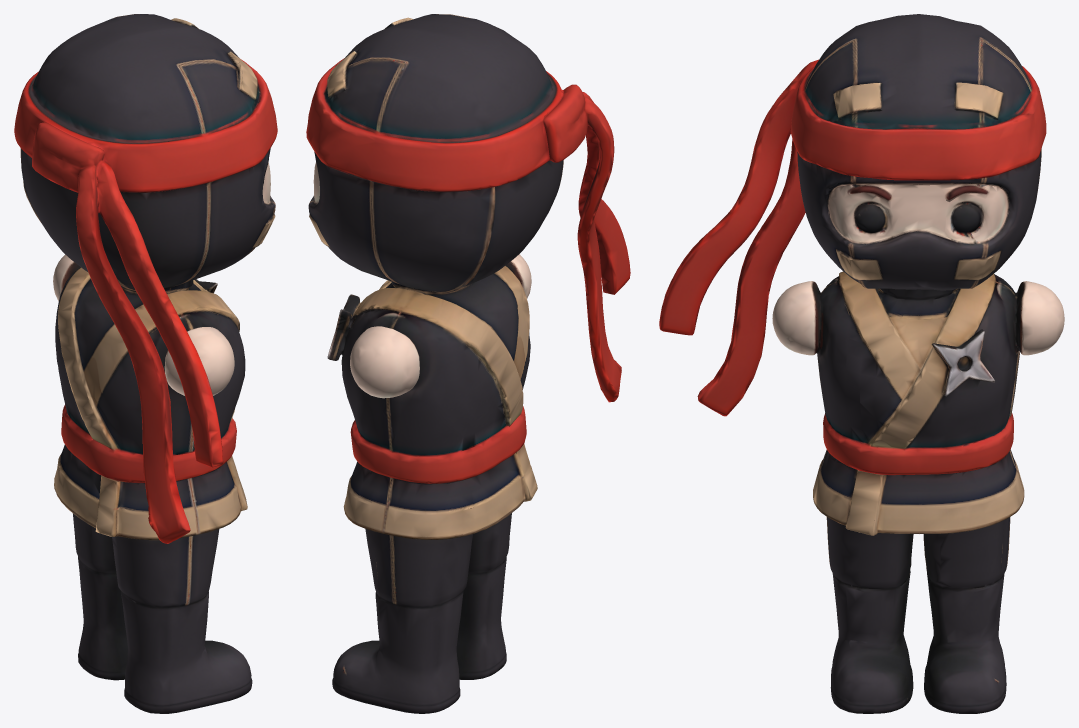
3 renders of one model, left to right at view 1: azimuth 30°, elevation 25°; view 2: azimuth 150°, elevation 25°; view 3: azimuth 270°, elevation 25°, orthographic.
Visible parts, largest first — view 1: repaired; view 2: repaired; view 3: repaired.
Boxes of the visible parts, x1,y1,x2,y2 form: repaired: (14, 14, 277, 713); repaired: (306, 14, 630, 713); repaired: (659, 14, 1064, 713).
Size of the model in its own units: 0.3679 by 0.9995 by 0.5668.
Materials: 1 (1 with a texture image).
